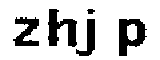h: (48, 6, 80, 47)
j: (78, 3, 100, 58)
p: (113, 15, 147, 60)
z: (14, 13, 42, 49)
